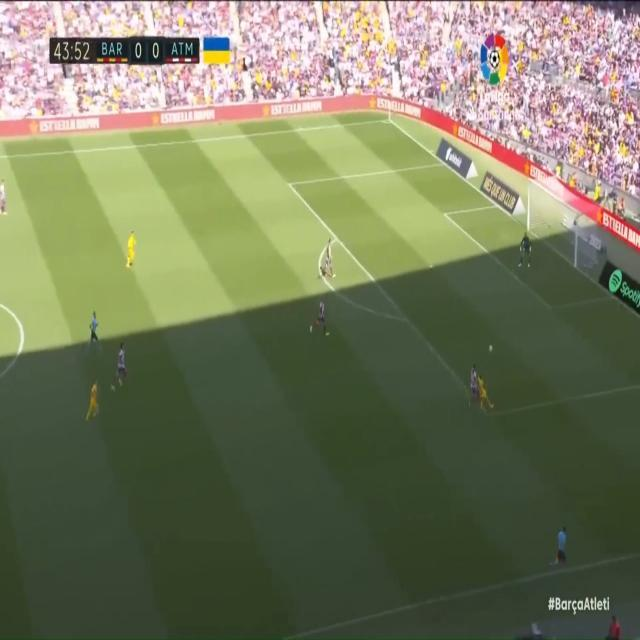ball: (486, 342, 498, 361)
goalkeeper: (516, 228, 536, 274)
player: (320, 234, 342, 290), (113, 337, 131, 404), (85, 378, 105, 424), (311, 299, 331, 345), (124, 223, 138, 275), (476, 375, 494, 411), (469, 362, 480, 414), (0, 171, 9, 219)
referee: (552, 523, 570, 569), (87, 307, 103, 348)
